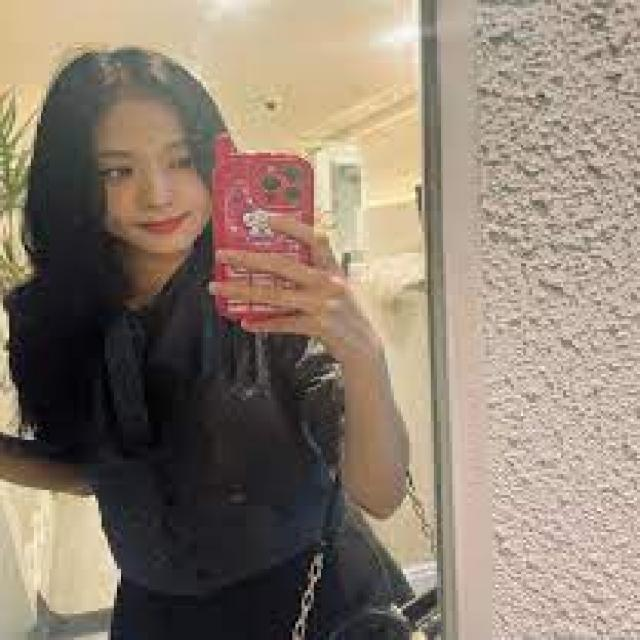Phone: (210, 152, 316, 323)
